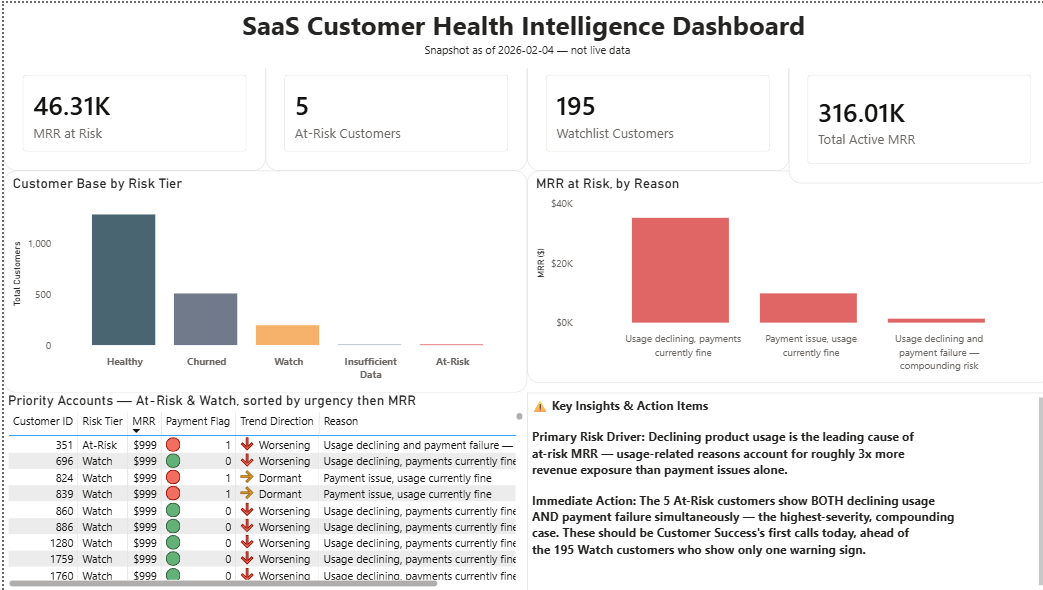

The page's visual inventory and layout, read from the dashboard file:
{"tool":"powerbi","page":{"name":"SaaS Customer Health Intelligence Dashboard ","canvas":[1280,720],"ordinal":0},"visuals":[{"type":"cardVisual","fields":{"Data":["public final_output.Total_MRR_At_Risk"]},"box":[0,65.7,320,140],"z":0},{"type":"columnChart","title":"Customer Base by Risk Tier","fields":{"Category":["public final_output.risk_tier"],"Y":["CountNonNull(public final_output.risk_tier)"]},"box":[0,205.7,640,271.4],"z":1000},{"type":"columnChart","title":"MRR at Risk, by Reason","fields":{"Category":["public final_output.reason"],"Y":["Sum(public final_output.mrr)"]},"box":[640,205.7,640,260],"z":2000},{"type":"tableEx","title":"Priority Accounts — At-Risk & Watch, sorted by urgency then MRR","fields":{"Values":["public final_output.customer_id","public final_output.risk_tier","public final_output.mrr","public final_output.payment_flag","public final_output.trend_direction","public final_output.reason"]},"box":[0,477.1,640,242.9],"z":3000},{"type":"cardVisual","fields":{"Data":["public final_output.At_Risk_Customer_Count"]},"box":[320,65.7,320,140],"z":4000},{"type":"cardVisual","fields":{"Data":["public final_output.Watch_Customer_Count"]},"box":[640,65.7,320,140],"z":5000},{"type":"cardVisual","fields":{"Data":["public final_output.TotalActive_MRR"]},"box":[960,65.7,320,155.7],"z":6000},{"type":"textbox","box":[640,477.1,640,242.9],"z":7000},{"type":"textbox","box":[0,0,1280.4,80],"z":8000}]}

Visuals, with their boxes in screenshot pixels (x1, y1, x2, y2), scaled from the page's 1280x720 canvas onto the 1043x590 screenshot:
cardVisual - public final_output.Total_MRR_At_Risk: <box>0,54,261,169</box>
"Customer Base by Risk Tier" columnChart: <box>0,169,522,391</box>
"MRR at Risk, by Reason" columnChart: <box>522,169,1042,382</box>
"Priority Accounts — At-Risk & Watch, sorted by urgency then MRR" tableEx: <box>0,391,522,589</box>
cardVisual - public final_output.At_Risk_Customer_Count: <box>261,54,522,169</box>
cardVisual - public final_output.Watch_Customer_Count: <box>522,54,782,169</box>
cardVisual - public final_output.TotalActive_MRR: <box>782,54,1042,181</box>
textbox: <box>522,391,1042,589</box>
textbox: <box>0,0,1042,66</box>
